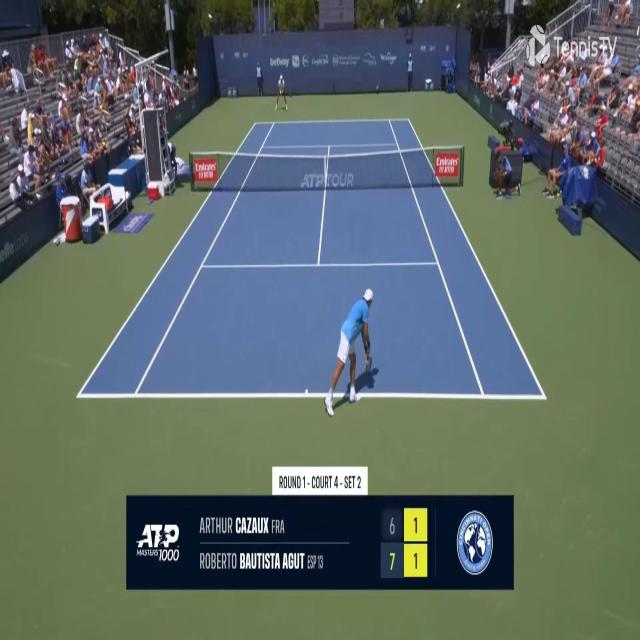tennis-player: (322, 282, 379, 420), (274, 75, 289, 112)
